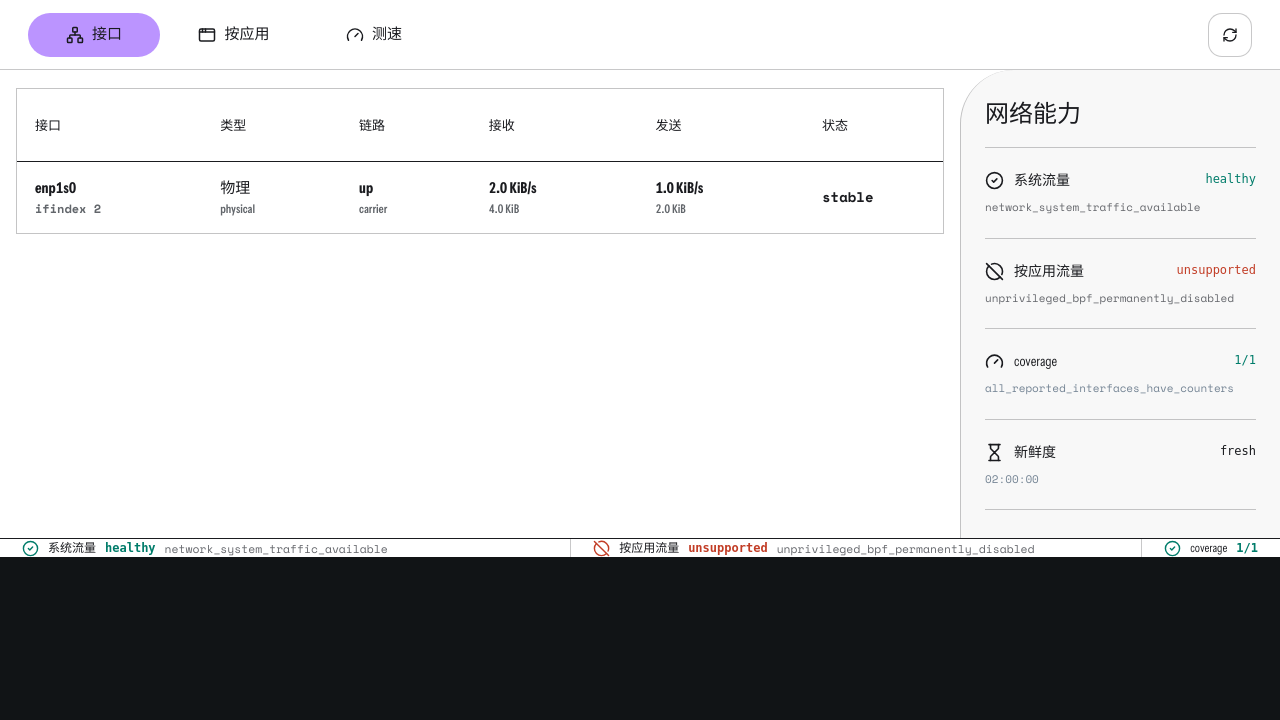
NetworkView › keeps the last successful network snapshot when refresh fails
The image size is (1280, 720).
Click the button with class "network-refresh" at (1230, 34), box x1=1208 y1=12 x2=1252 y2=56
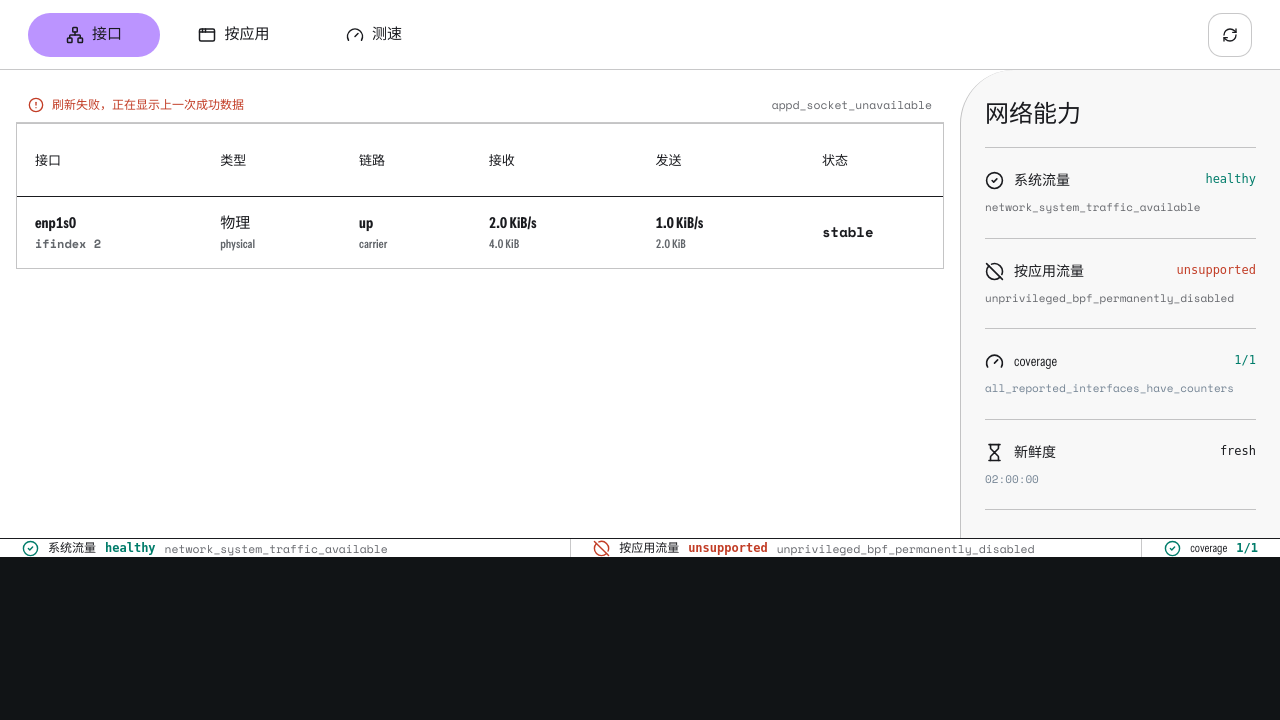
Expected: the text "enp1s0" is shown, x1=35 y1=213 x2=76 y2=232
Result: the text "刷新失败，正在显示上一次成功数据" is shown at x1=52 y1=96 x2=244 y2=114
Result: the message with class "network-refresh-error" shows "appd_socket_unavailable" at x1=772 y1=96 x2=932 y2=113
